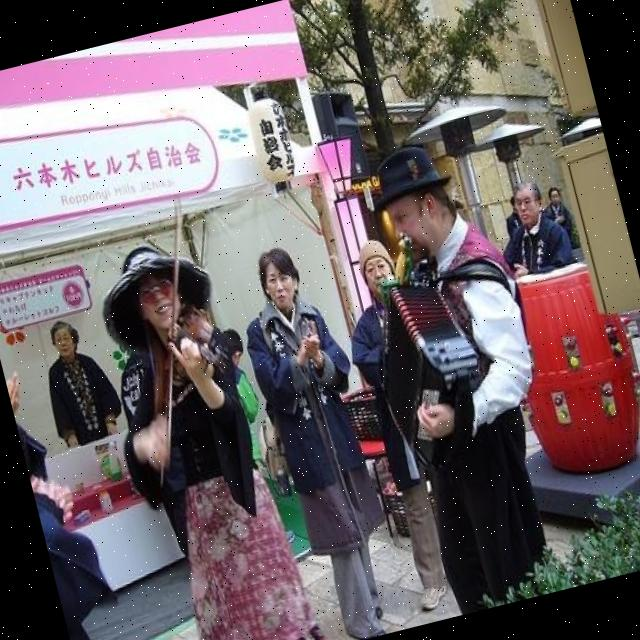violin: (155, 287, 234, 389)
